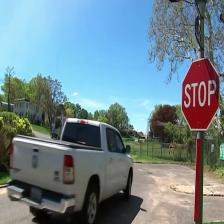Stop-sign: (178, 49, 223, 137)
